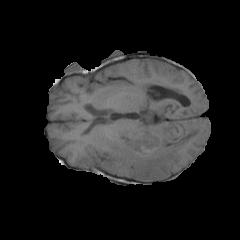glioma: (103, 125, 199, 180)
